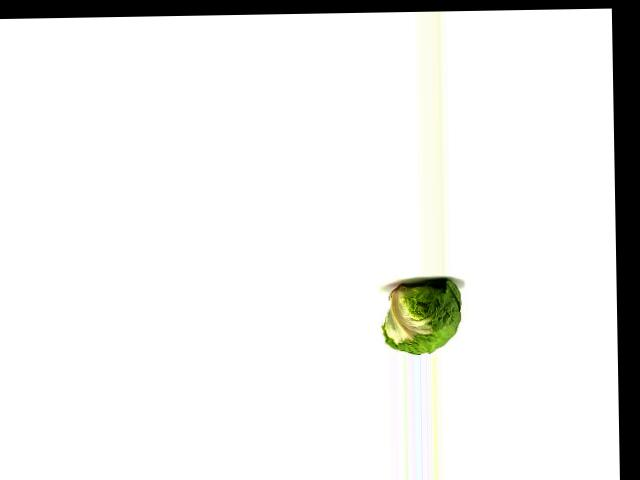lettuce: (379, 274, 463, 355)
